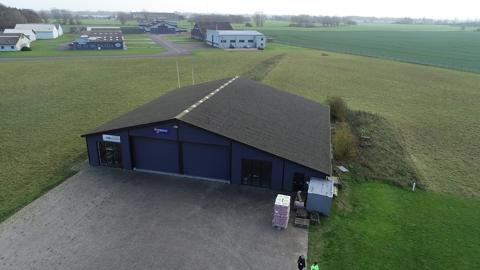RockwoolPallet: (273, 192, 292, 229)
